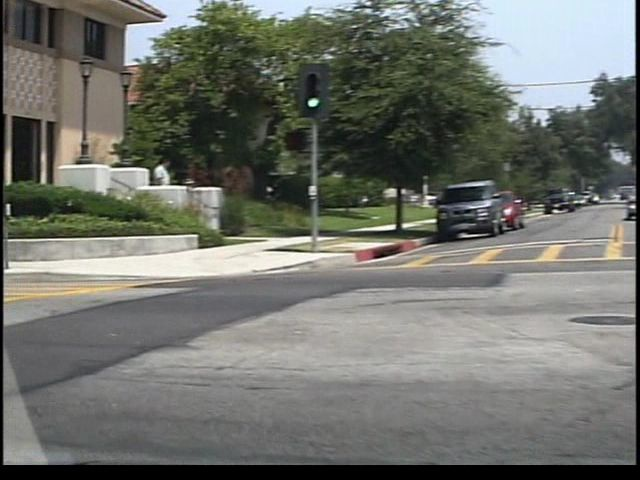person: (142, 151, 164, 219)
